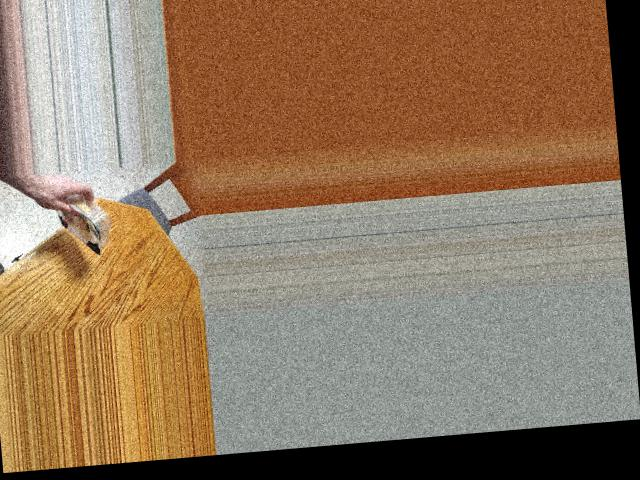cheese: (35, 187, 124, 255)
